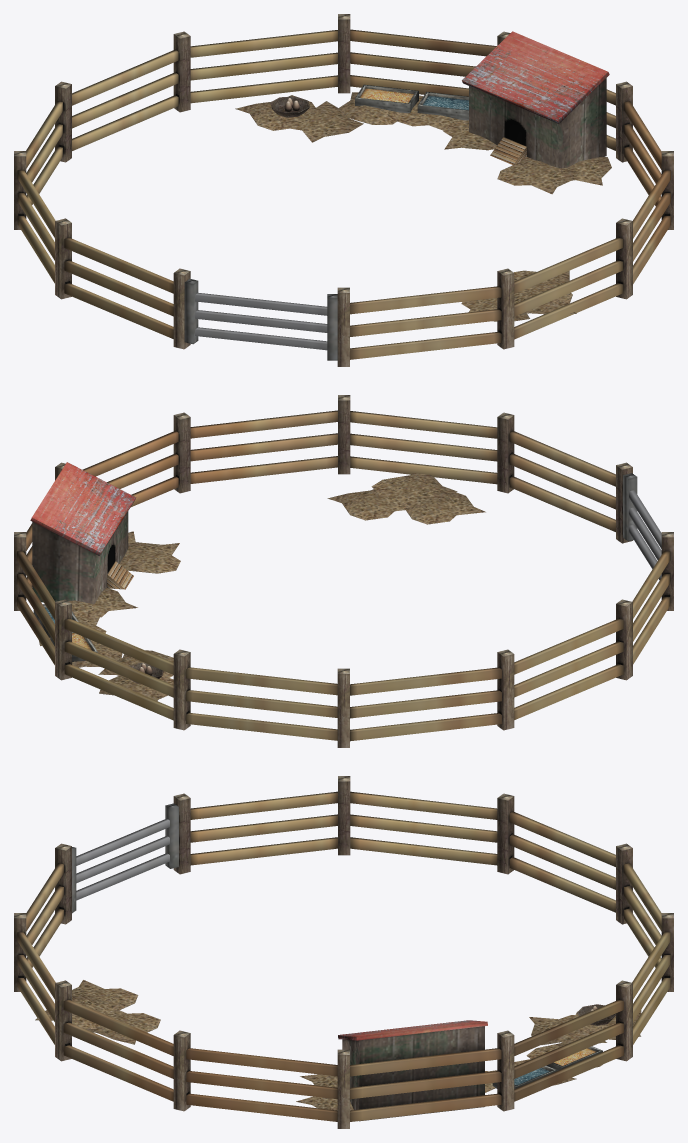
File: ChickenCoop_atlas.FBX
The picture shows the model from 3 angles, top to bottom: view 1: azimuth 30°, elevation 25°; view 2: azimuth 150°, elevation 25°; view 3: azimuth 270°, elevation 25°; orthographic projection.
Visible parts, largest first — view 1: ChickenCoop; view 2: ChickenCoop; view 3: ChickenCoop.
Part boxes in pixels (left/top/right/bottom): ChickenCoop: left=14, top=14, right=673, bottom=366; ChickenCoop: left=14, top=395, right=673, bottom=747; ChickenCoop: left=14, top=776, right=673, bottom=1128.
Size of the model in its own units: 7.02 by 0.9973 by 7.02.
